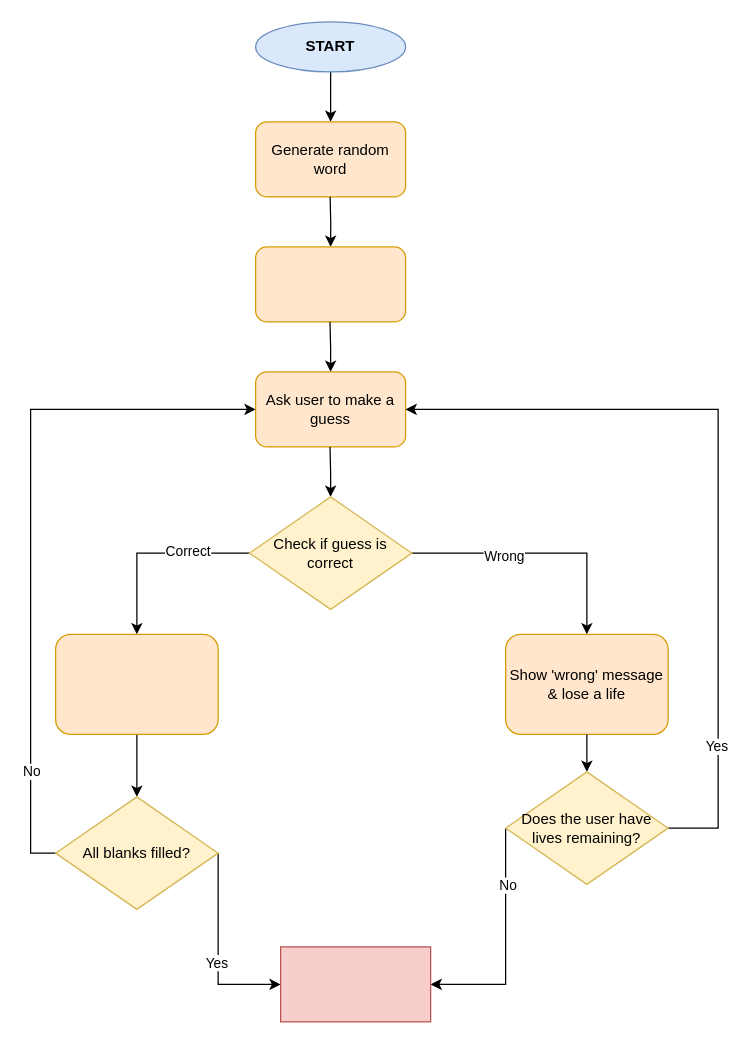
Some shapes in this 750 by 1044 pixel diagram are drawn without their labels. The box of each missing label's shape, as (x1, y1, x2, y2) in pixels:
GAME OVER: (279, 946, 431, 1022)
Generate equal amount of blanks: (254, 246, 406, 322)
Show 'correct' message & replace blank with the guessed word: (54, 633, 218, 734)
